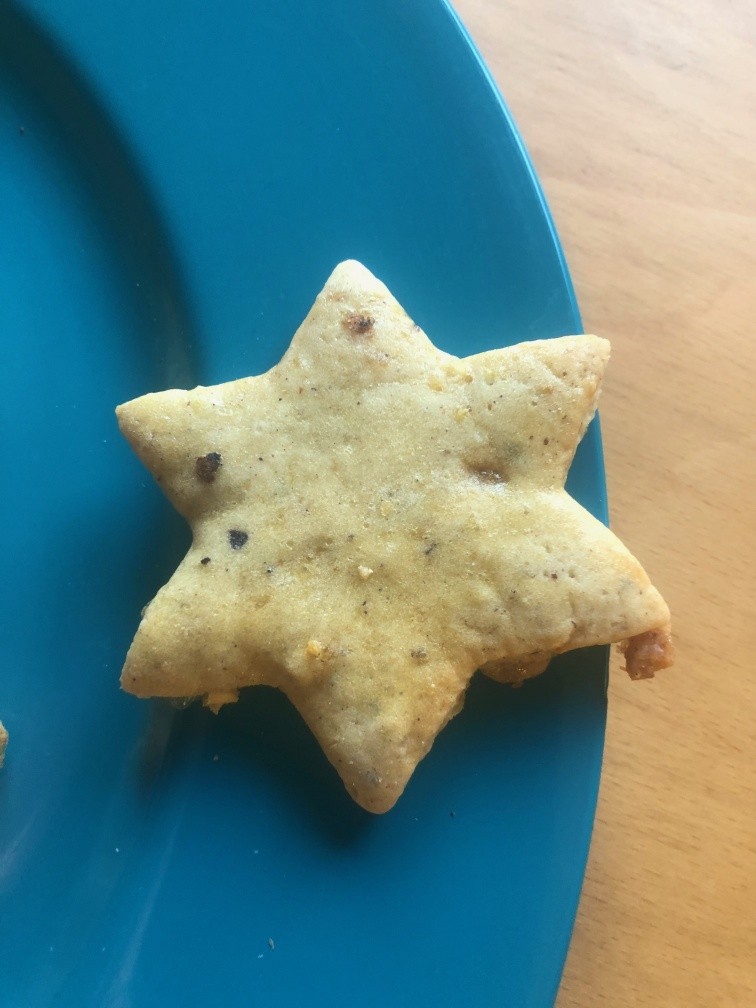star: (92, 246, 676, 831)
